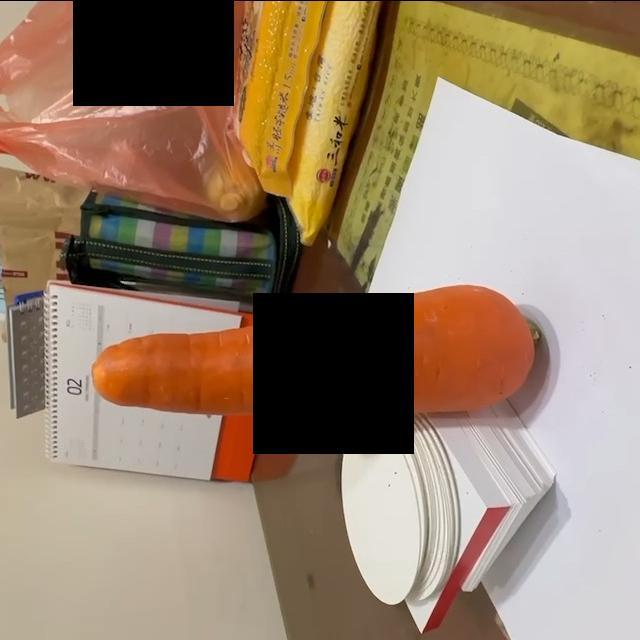carrot: (96, 277, 547, 420)
